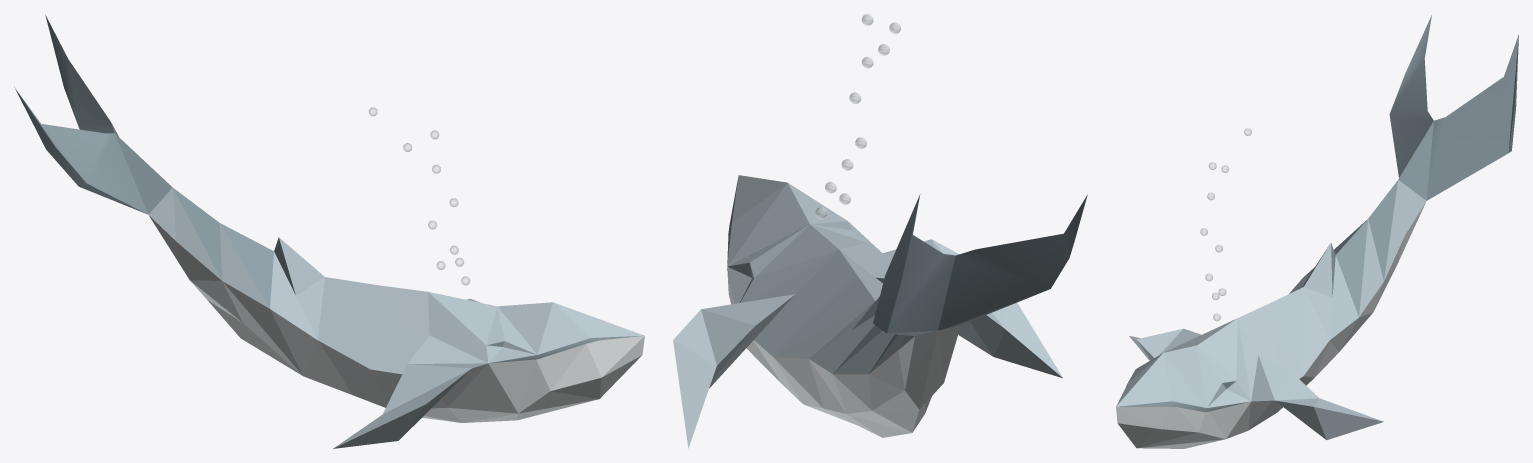
File: whale.glb
3 views of the same model, side by side, from view 1: azimuth 30°, elevation 25°; view 2: azimuth 150°, elevation 25°; view 3: azimuth 270°, elevation 25° (orthographic). The views are drawn at different scales.
Visible parts, largest first — view 1: Object_3, Object_2, Object_4, Object_5; view 2: Object_3, Object_4, Object_2, Object_5; view 3: Object_3, Object_4, Object_2, Object_5.
Part boxes in pixels (x1=…): Object_3: x1=148, y1=188, x2=643, y2=448; Object_2: x1=149, y1=216, x2=644, y2=422; Object_4: x1=14, y1=15, x2=643, y2=363; Object_5: x1=368, y1=107, x2=470, y2=285; Object_3: x1=673, y1=175, x2=1062, y2=448; Object_4: x1=727, y1=177, x2=1087, y2=373; Object_2: x1=727, y1=272, x2=960, y2=437; Object_5: x1=815, y1=14, x2=900, y2=218; Object_3: x1=1116, y1=180, x2=1426, y2=440; Object_4: x1=1119, y1=15, x2=1518, y2=412; Object_2: x1=1116, y1=202, x2=1425, y2=448; Object_5: x1=1200, y1=128, x2=1251, y2=321.
Bounding box in the file's own units: 16.51 × 11.94 × 14.55.
